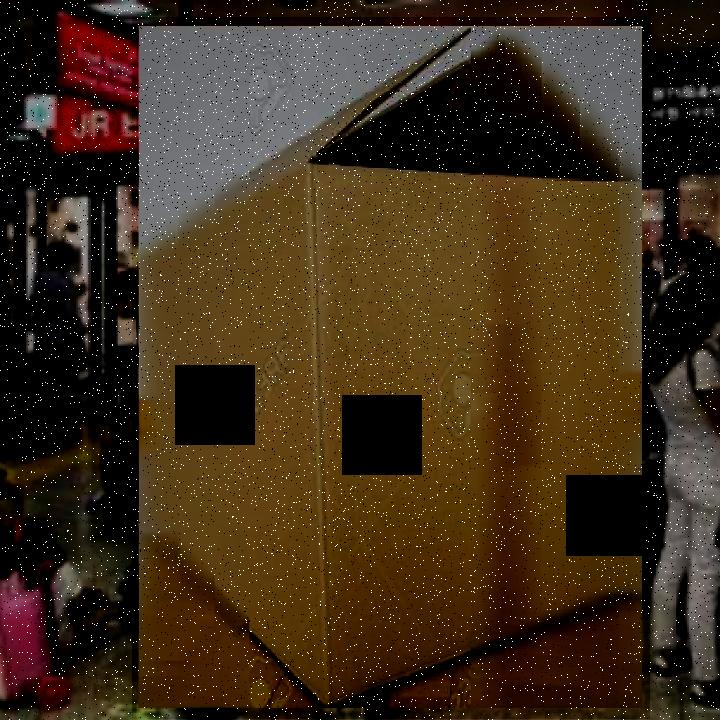box: (132, 17, 650, 719)
